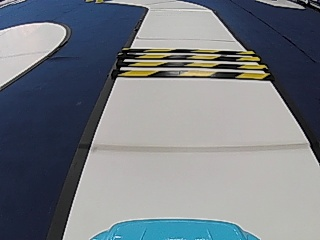bump: (138, 46, 248, 80)
